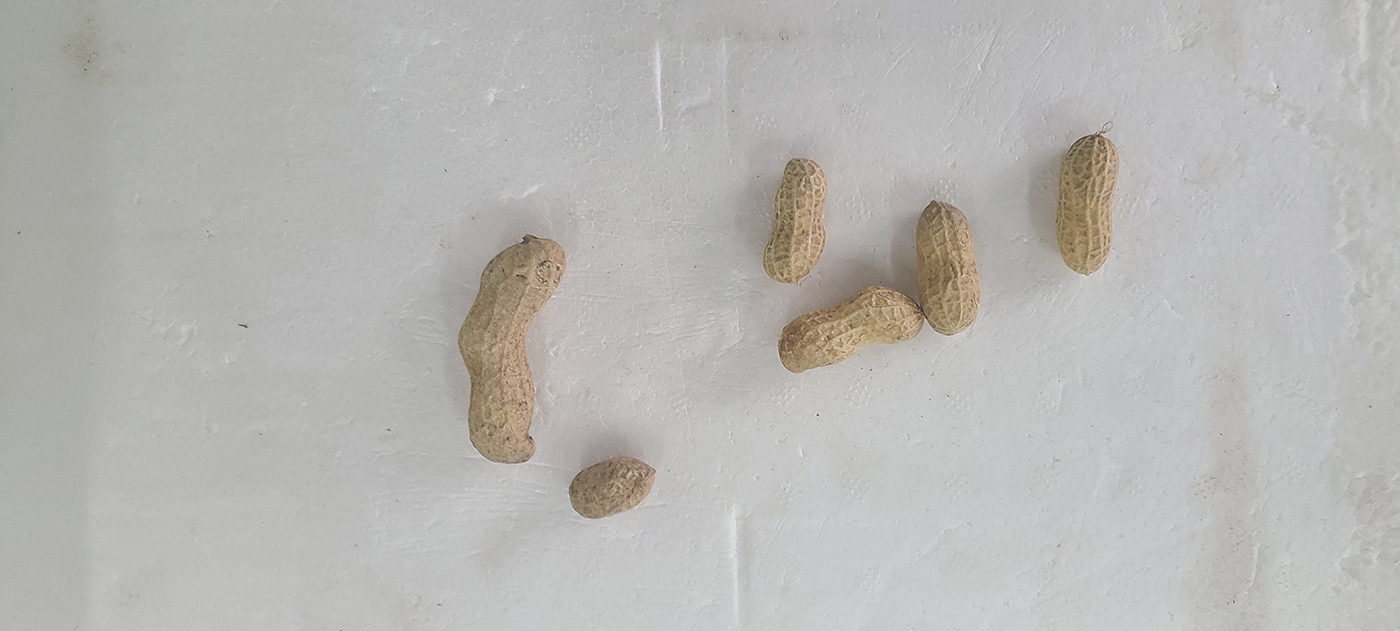h: (460, 235, 566, 465), (779, 285, 924, 373), (1056, 134, 1120, 277), (914, 202, 981, 334), (762, 157, 827, 284)
l: (567, 457, 656, 520)
